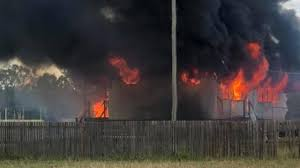smoke: (1, 1, 300, 80)
